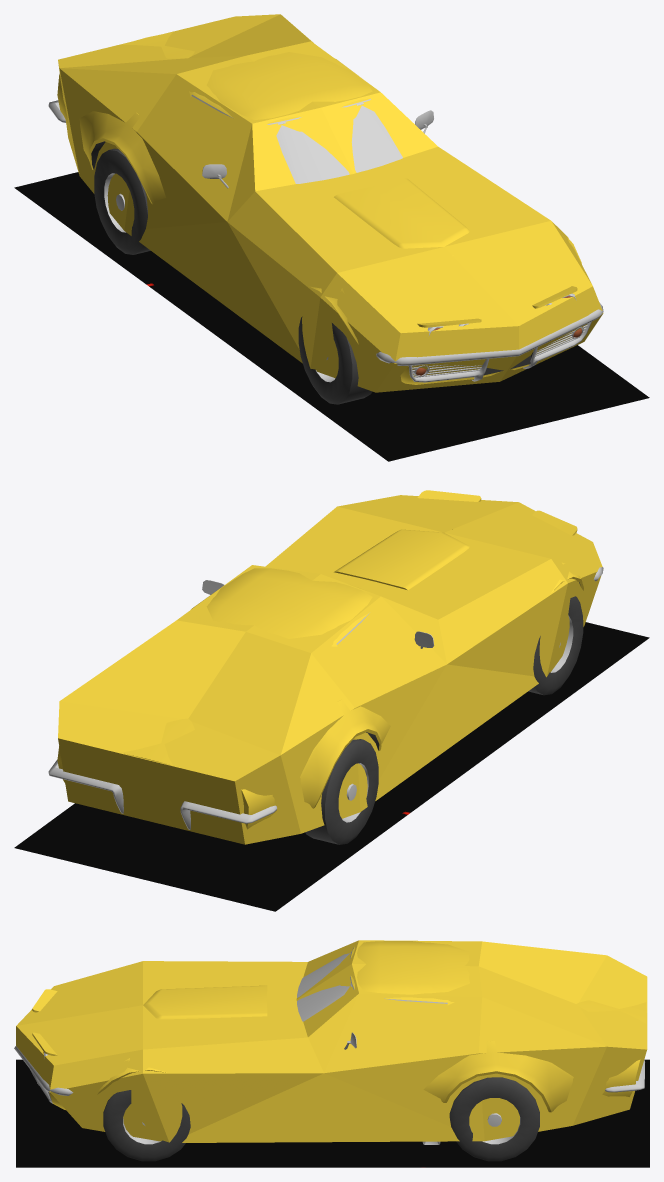
The model's file is Zegato.fbx.
The picture shows the model from 3 angles, top to bottom: view 1: azimuth 30°, elevation 25°; view 2: azimuth 150°, elevation 25°; view 3: azimuth 270°, elevation 25°; orthographic projection. The views are drawn at different scales.
Visible parts, largest first — view 1: Zegato_body_col, Zegato_body, CarShadow, Zegato_wheel_RR, Zegato_wheel_FR; view 2: Zegato_body_col, CarShadow, Zegato_body, Zegato_wheel_RR, Zegato_wheel_FR; view 3: Zegato_body_col, CarShadow, Zegato_body, Zegato_wheel_RL, Zegato_wheel_FL.
Boxes of the visible parts, x1,y1,x2,y2 form: Zegato_body_col: [58, 14, 603, 392]; Zegato_body: [48, 32, 603, 384]; CarShadow: [14, 172, 649, 461]; Zegato_wheel_RR: [94, 148, 150, 254]; Zegato_wheel_FR: [298, 316, 372, 404]; Zegato_body_col: [58, 495, 602, 844]; CarShadow: [14, 622, 649, 911]; Zegato_body: [48, 490, 603, 829]; Zegato_wheel_RR: [305, 739, 378, 844]; Zegato_wheel_FR: [528, 596, 583, 695]; Zegato_body_col: [16, 940, 647, 1142]; CarShadow: [16, 1059, 649, 1167]; Zegato_body: [14, 941, 646, 1144]; Zegato_wheel_RL: [449, 1077, 539, 1161]; Zegato_wheel_FL: [103, 1090, 190, 1161].
Size of the model in its own units: 1.86 by 1.21 by 4.63.
